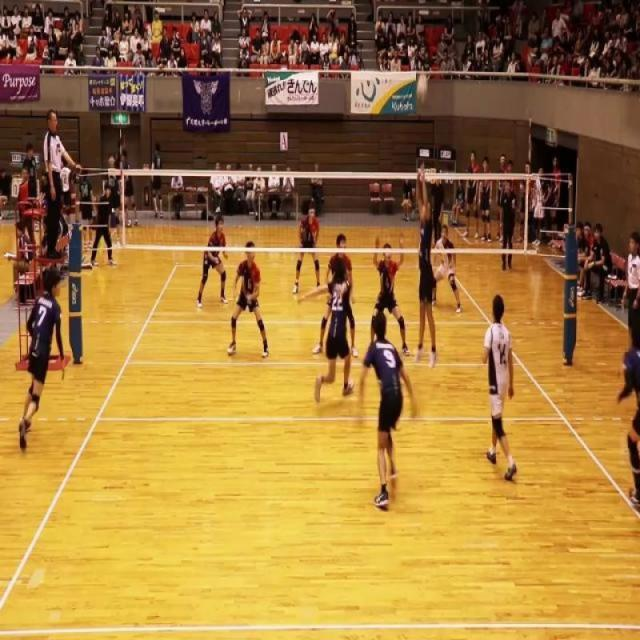volleyball: (416, 73, 428, 104)
